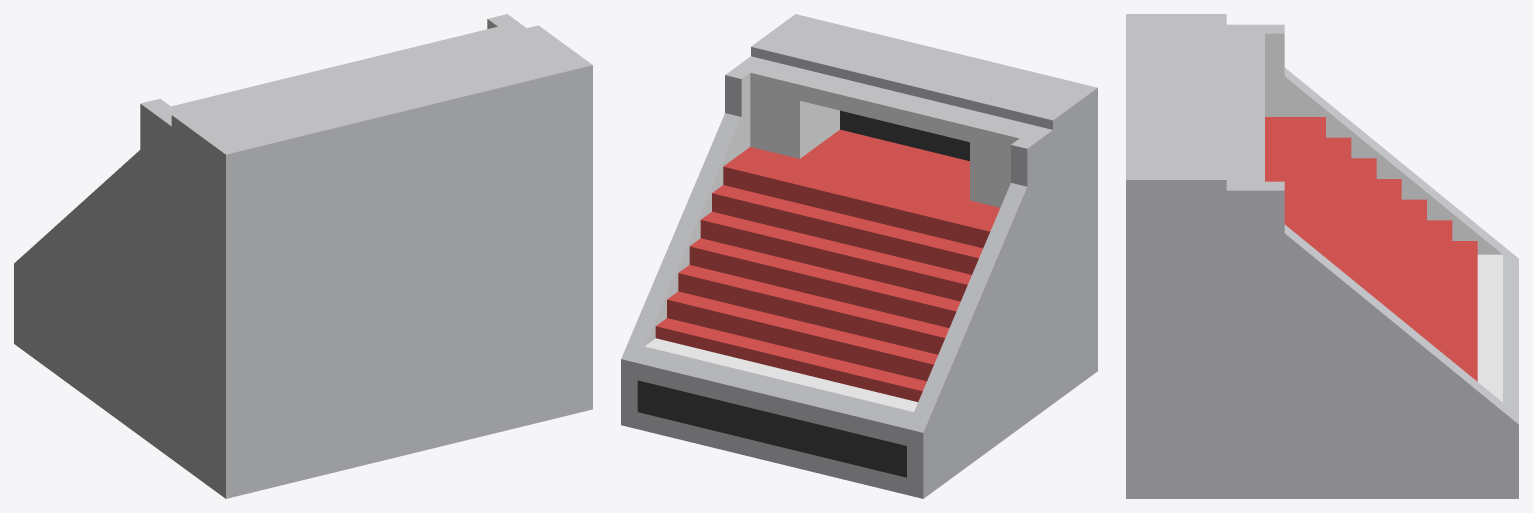
Rendered from grandStand.obj.
The picture shows the model from 3 angles, left to right: view 1: azimuth 30°, elevation 25°; view 2: azimuth 150°, elevation 25°; view 3: azimuth 270°, elevation 25°; orthographic projection. The views are drawn at different scales.
Visible parts, largest first — view 1: grandStand; view 2: grandStand; view 3: grandStand.
Boxes of the visible parts, x1=… form: grandStand: x1=14, y1=14, x2=592, y2=498; grandStand: x1=621, y1=14, x2=1097, y2=498; grandStand: x1=1126, y1=14, x2=1518, y2=498.
Size of the model in its own units: 1 by 0.8963 by 1.
